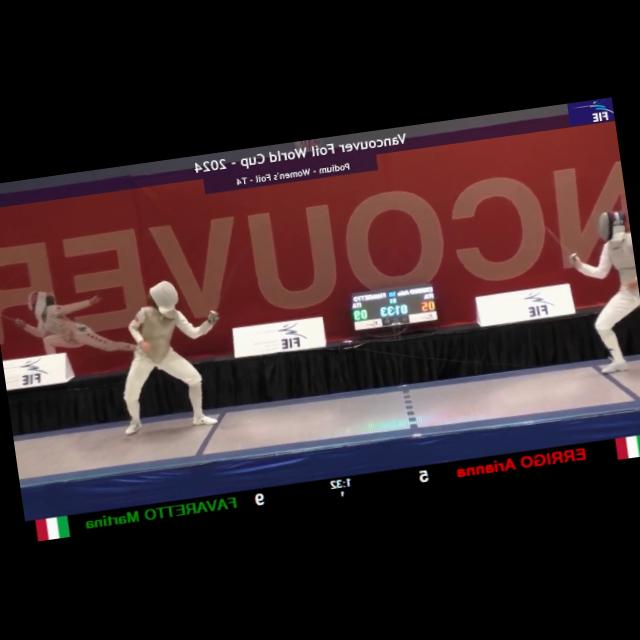blade: (202, 253, 252, 320), (538, 212, 580, 266)
